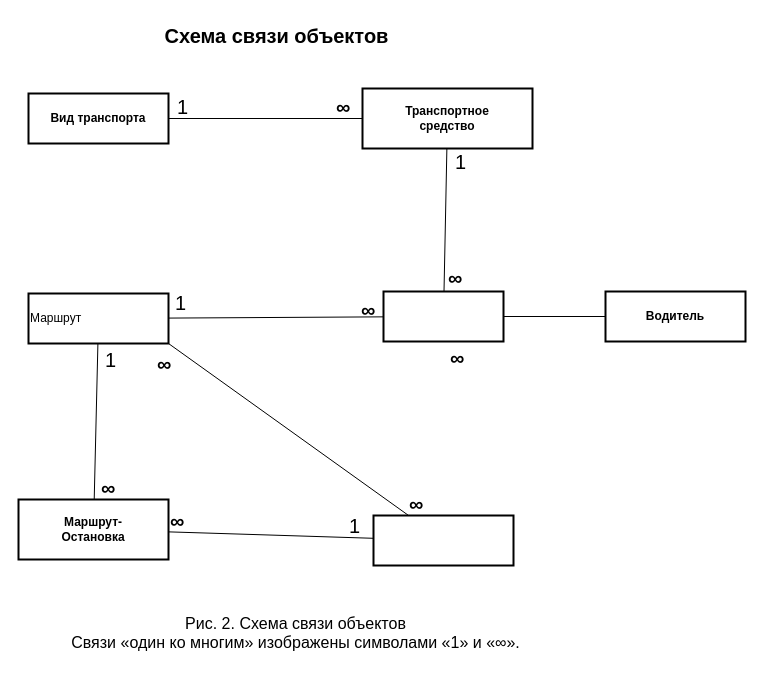
Image size: 763x684. Some labels were removed from this diagram. Here are the shapes that lost their labels. From the top down, the centre of each, then its label:
[443,316]: Рейс
[443,540]: Остановка
